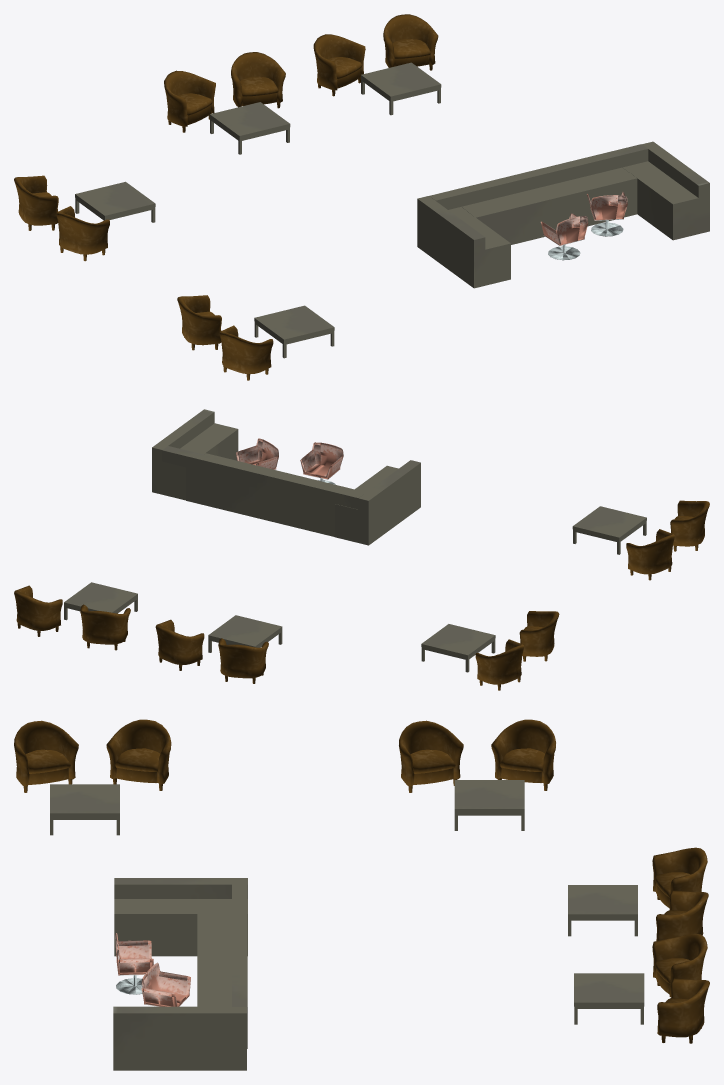
Rendered from reseption.FBX.
3 views of the same model, one above another, from view 1: azimuth 30°, elevation 25°; view 2: azimuth 150°, elevation 25°; view 3: azimuth 270°, elevation 25° (orthographic). The views are drawn at different scales.
Visible parts, largest first — view 1: Object010; view 2: Object010; view 3: Object010.
Boxes of the visible parts, left/top/right/bottom form: Object010: left=14, top=14, right=709, bottom=380; Object010: left=14, top=409, right=709, bottom=690; Object010: left=14, top=719, right=709, bottom=1070.
Bounding box in the file's own units: 1144 × 102 × 1130.
1 material, 1 textured.
